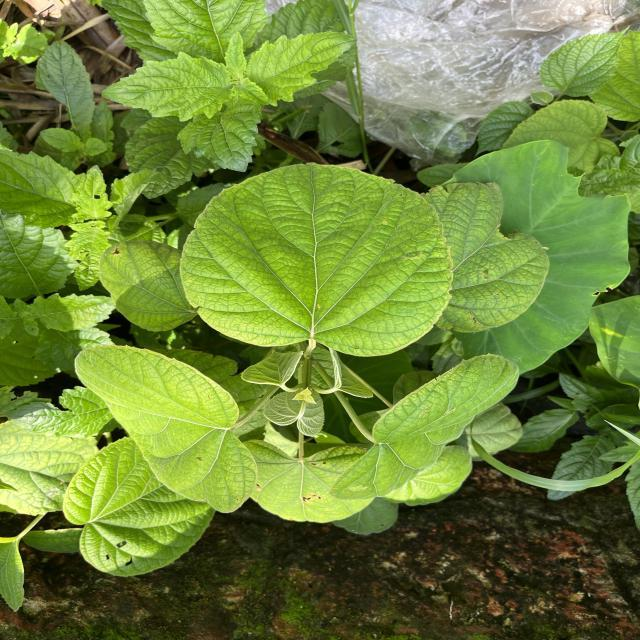Clerodendrum infortunatum: (178, 160, 456, 359), (72, 342, 258, 512), (328, 352, 521, 501), (61, 434, 212, 578)
